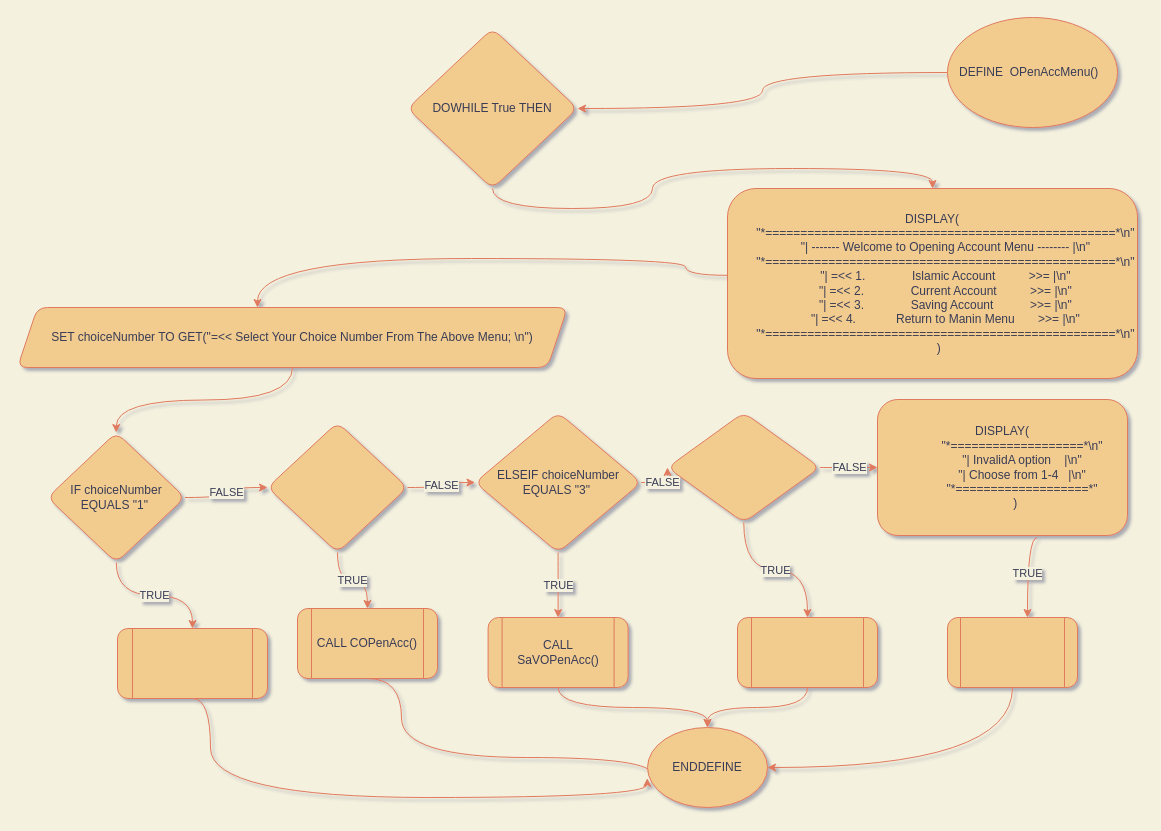
The diagram is 1161 pixels wide and 831 high, and some of its shapes have lost their labels. The shapes that lost their labels are listed below. From the top down, each one's box as (x1, y1, x2, y2) in pixels, then its label:
(266, 422, 408, 552): ELSEIF choiceNumber EQUALS "2"
(666, 412, 820, 522): ELSEIF choiceNumber EQUALS "4"
(116, 628, 268, 698): CALL IOPenAcc()
(736, 616, 878, 688): CALL main_menu()
(946, 616, 1078, 688): CALL RETURN OPenAccMenu()
